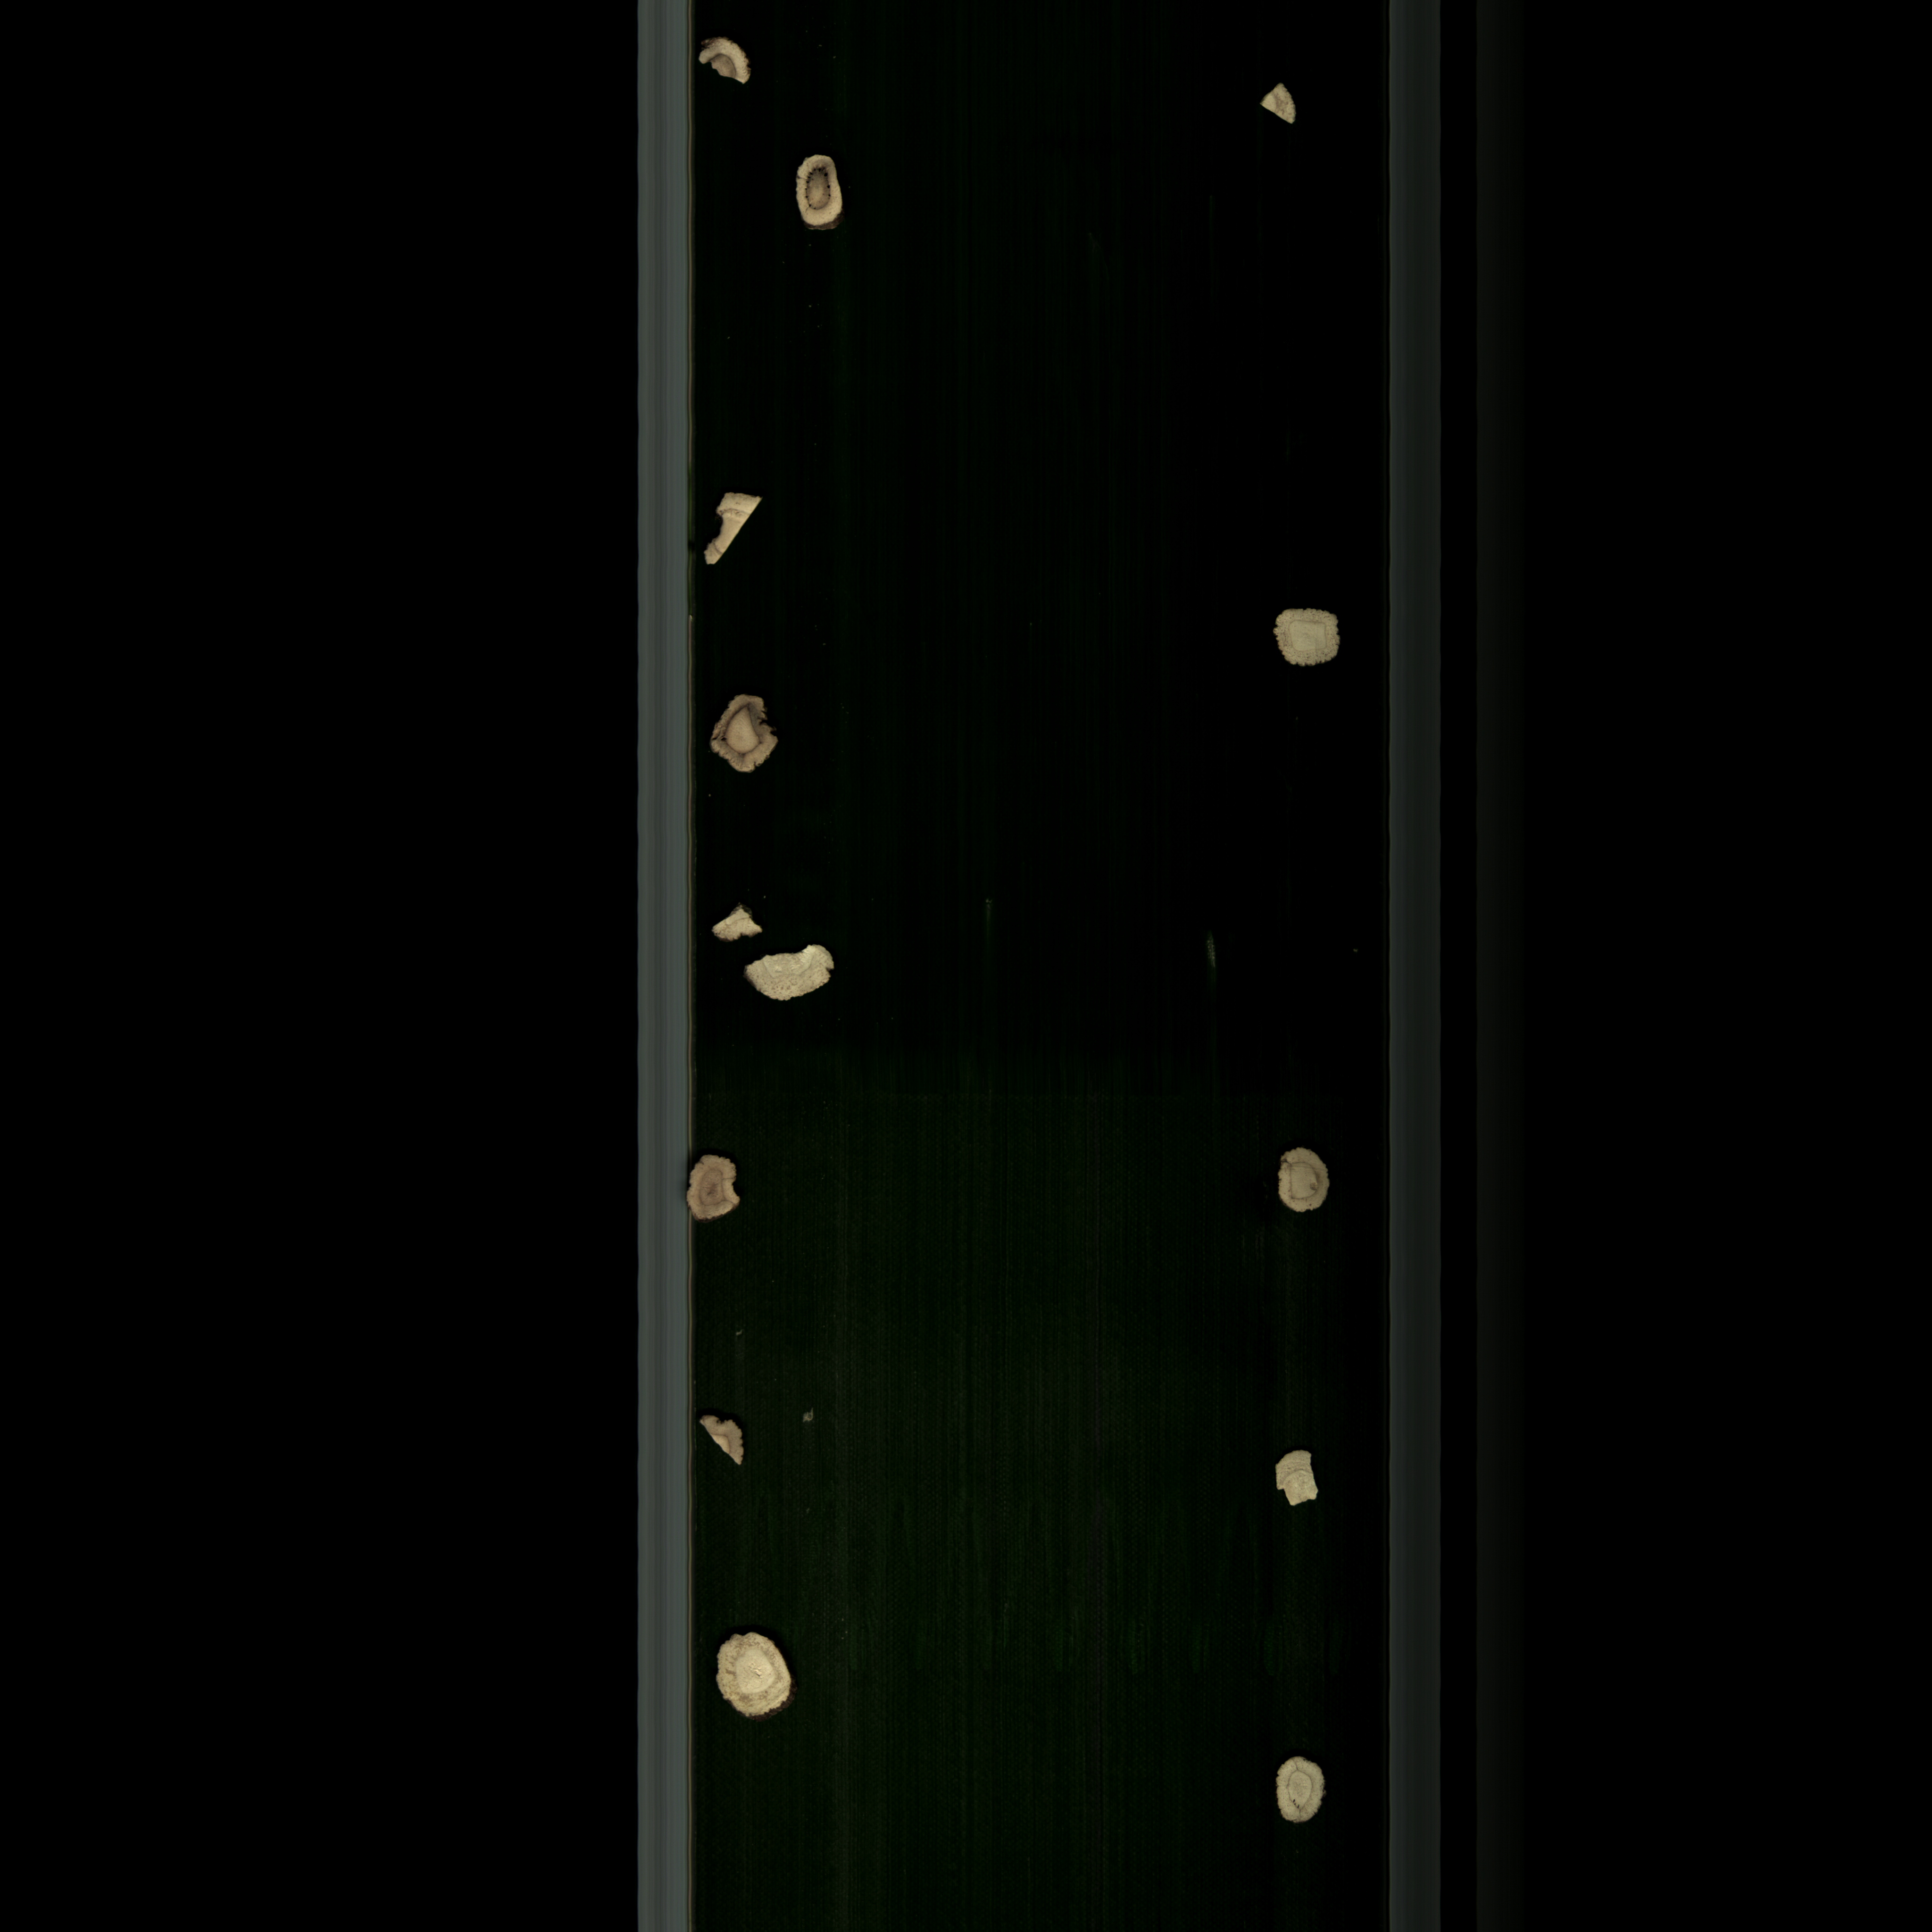debris: (732, 939, 853, 1003)
distortion: (1265, 1746, 1336, 1844), (1261, 600, 1345, 672)
dreg: (688, 490, 786, 579), (1260, 1447, 1338, 1518), (1251, 73, 1313, 138), (694, 1410, 754, 1472), (706, 902, 777, 948)
moldy: (704, 679, 789, 787), (782, 147, 855, 237), (1269, 1138, 1339, 1221), (683, 1152, 752, 1228), (694, 27, 763, 101)
